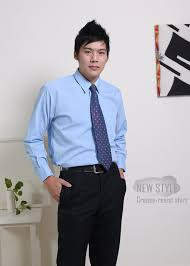F_belt: (59, 161, 124, 177)
F_dress pants: (52, 175, 128, 266)
F_shirt: (21, 72, 142, 186)
F_tie: (83, 83, 119, 173)
